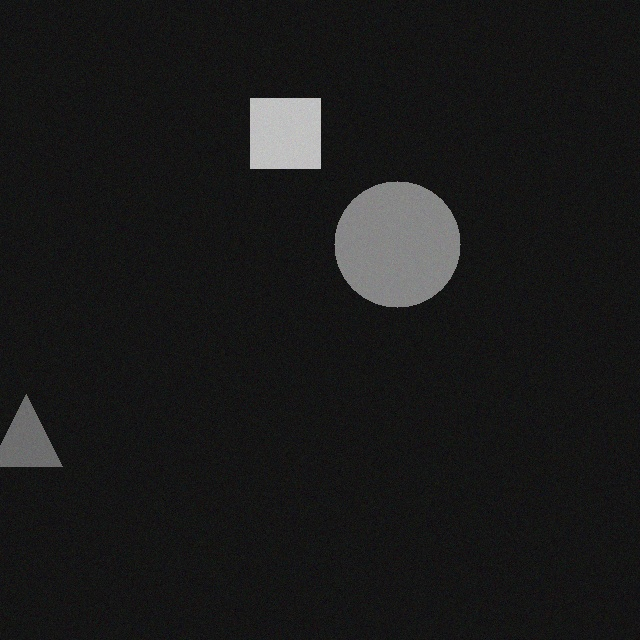circle: (349, 191, 475, 317)
square: (265, 108, 335, 178)
triangle: (5, 404, 77, 476)
